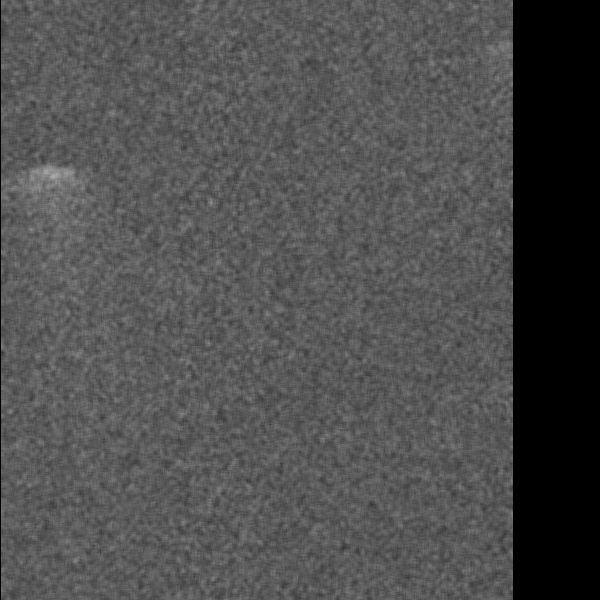spark: (342, 65, 406, 227), (95, 239, 135, 313), (205, 342, 240, 377)
